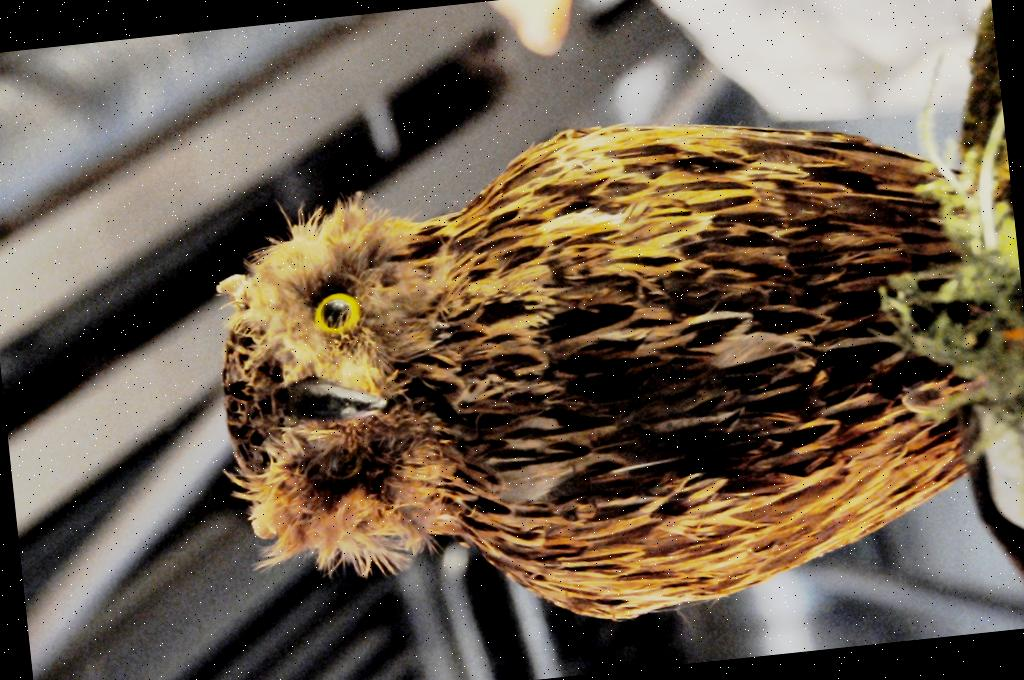Owl: (192, 78, 1024, 667)
